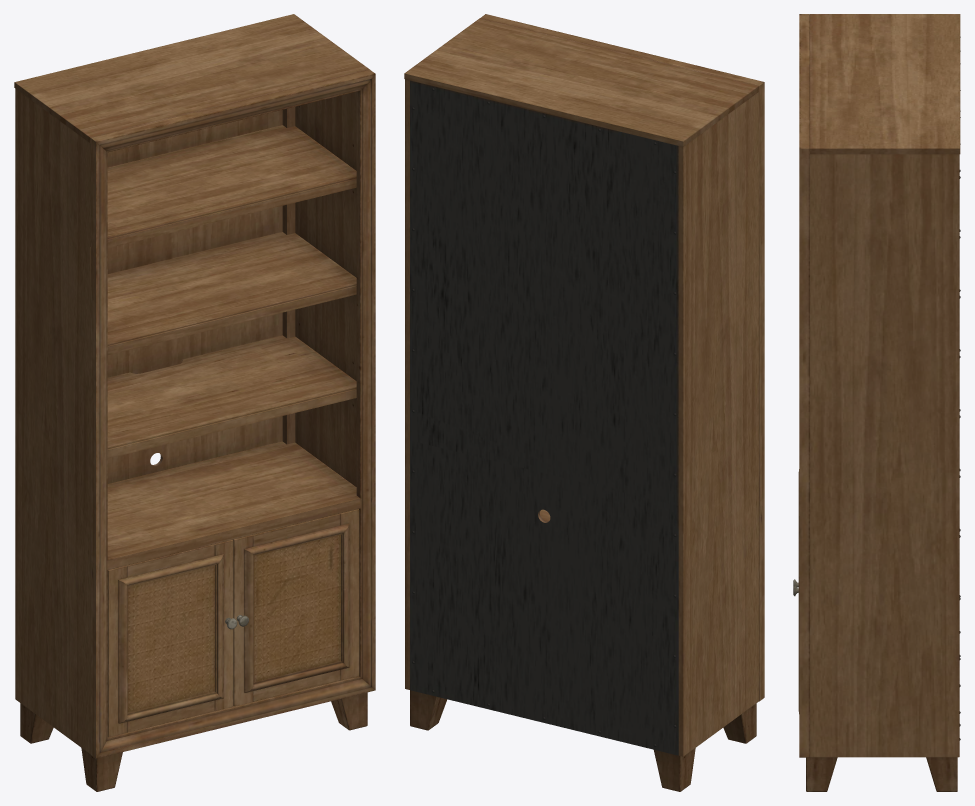
Rendered from bookcase.glb.
3 views of the same model, side by side, from view 1: azimuth 30°, elevation 25°; view 2: azimuth 150°, elevation 25°; view 3: azimuth 270°, elevation 25° (orthographic).
Visible parts, largest first — view 1: RootNode; view 2: RootNode; view 3: RootNode.
Boxes of the visible parts, x1,y1,x2,y2 form: RootNode: (14,14,375,791); RootNode: (404,14,764,791); RootNode: (793,14,960,791).
Bounding box in the file's own units: 0.8635 × 1.93 × 0.4529.
1 material, 1 textured.
